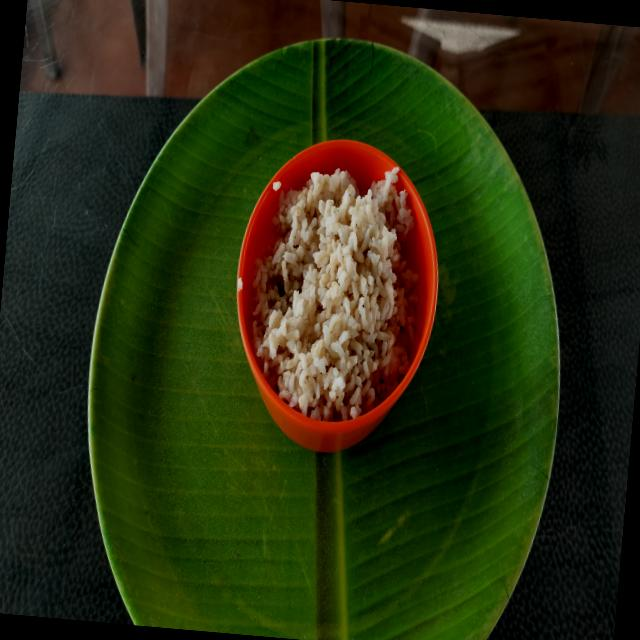brown-rice: (249, 165, 418, 421)
